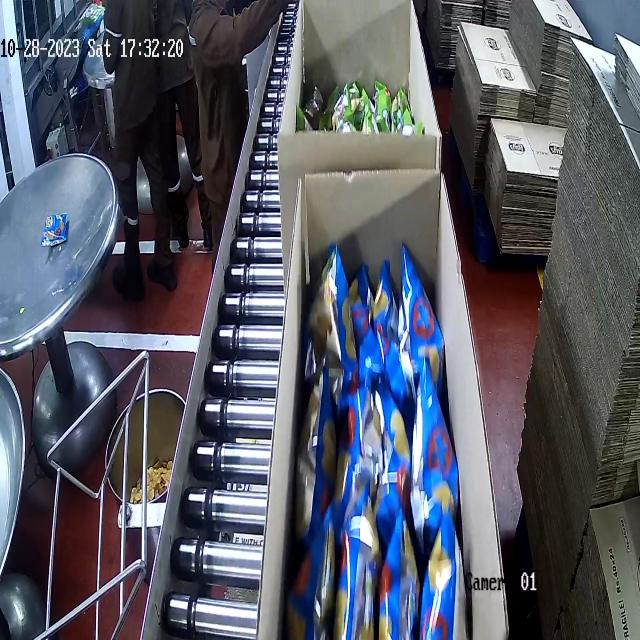PAPRIKA: (298, 250, 466, 626)
YOGURT_HERB: (301, 70, 419, 136)
